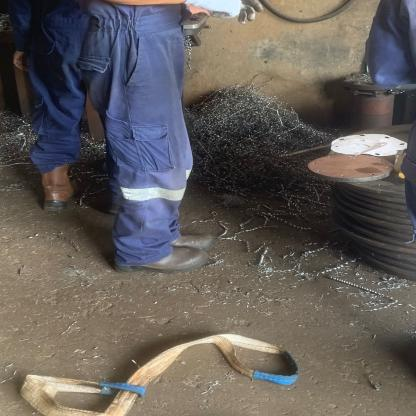bota: (113, 245, 210, 272), (34, 164, 84, 209), (170, 230, 217, 248)
